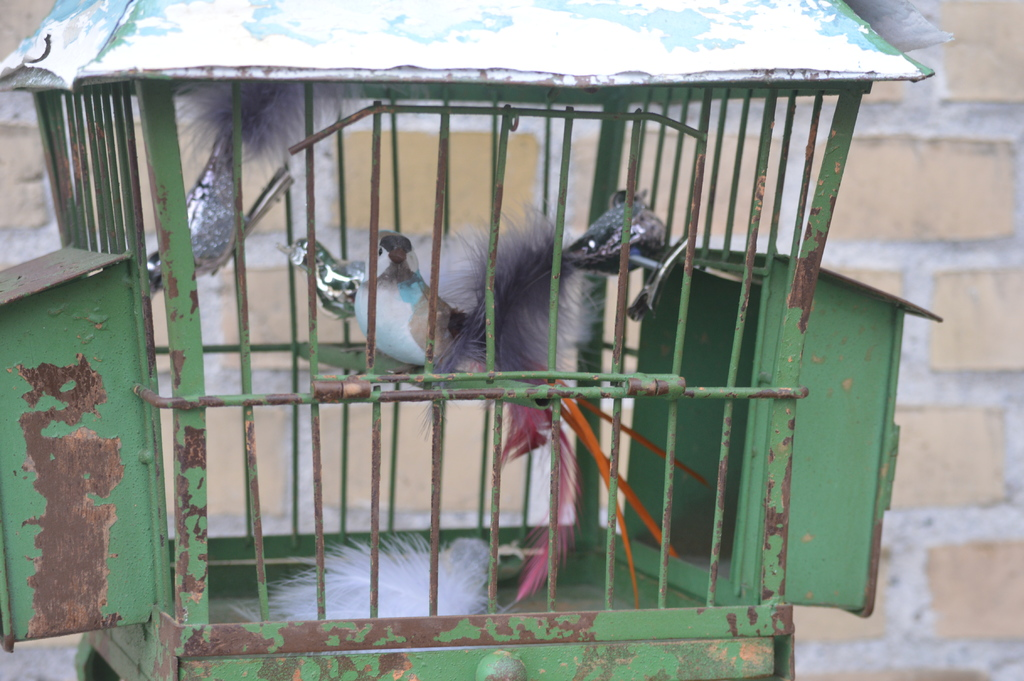Bird: (356, 226, 587, 601), (148, 80, 357, 297), (232, 532, 492, 621), (550, 187, 682, 313), (267, 237, 360, 320)
